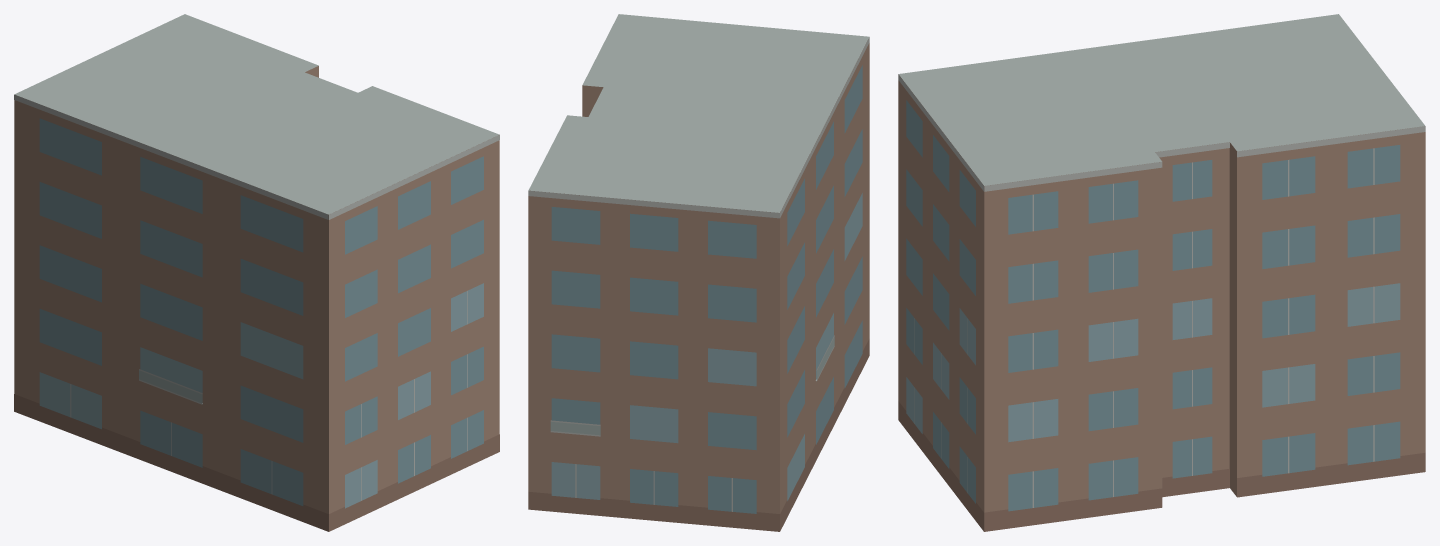
The model's file is survey-upis-32956998.glb.
3 views of the same model, side by side, from view 1: azimuth 30°, elevation 25°; view 2: azimuth 150°, elevation 25°; view 3: azimuth 270°, elevation 25° (orthographic). The views are drawn at different scales.
Parts seen in each view (by area): view 1: survey-upis-32956998.tmp; view 2: survey-upis-32956998.tmp; view 3: survey-upis-32956998.tmp.
Boxes of the visible parts, x1=… form: survey-upis-32956998.tmp: x1=14, y1=14, x2=499, y2=531; survey-upis-32956998.tmp: x1=528, y1=14, x2=869, y2=531; survey-upis-32956998.tmp: x1=898, y1=14, x2=1425, y2=531.
Size of the model in its own units: 15.14 by 14.2 by 19.62.
